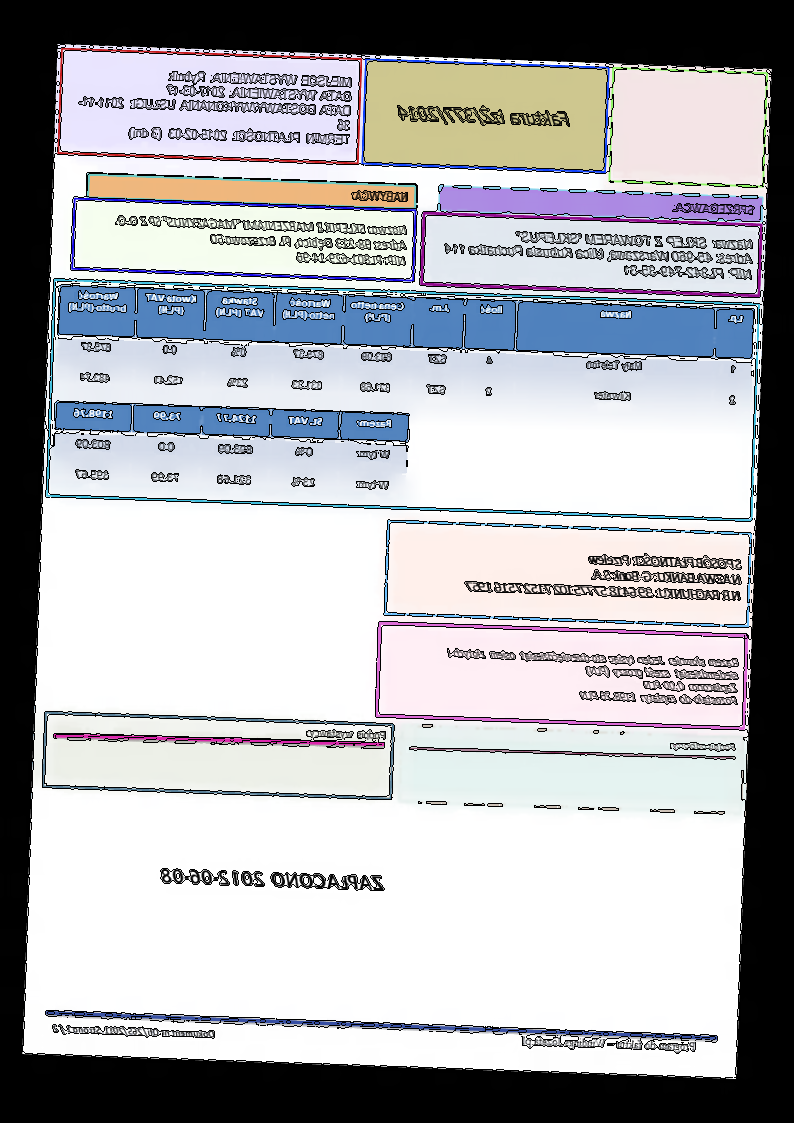Table: (54, 282, 756, 423), (50, 399, 412, 506)
TextBox: (74, 63, 355, 151), (440, 645, 740, 708), (442, 225, 756, 284), (111, 211, 410, 270), (463, 545, 745, 606), (160, 863, 386, 895), (393, 101, 575, 131), (521, 1030, 698, 1056), (50, 1019, 218, 1042), (304, 724, 389, 744), (671, 198, 759, 217), (669, 735, 738, 755), (351, 185, 412, 206)
